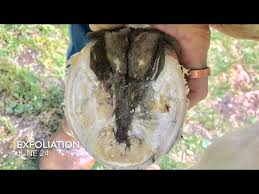horsesole: (63, 36, 186, 169)
